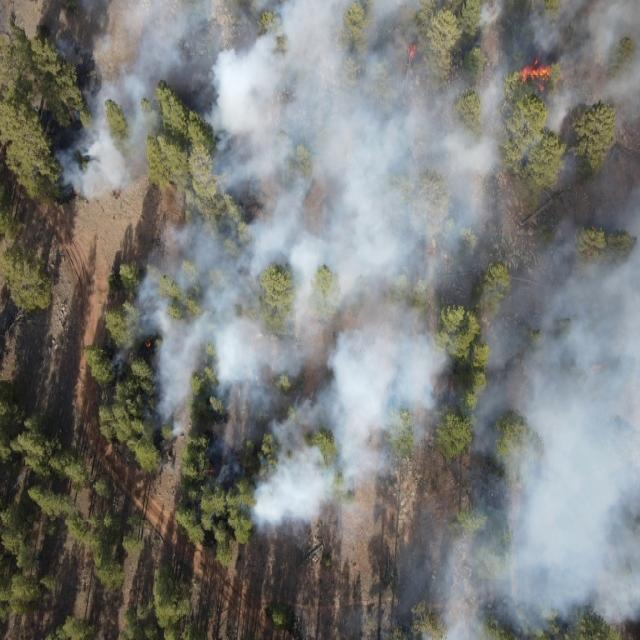fire: (516, 66, 557, 94), (529, 48, 545, 66), (588, 361, 608, 375), (406, 42, 419, 58), (204, 466, 216, 476), (72, 186, 82, 197), (144, 340, 154, 350), (112, 188, 122, 198)
smoke: (46, 0, 640, 201), (394, 202, 640, 640), (172, 201, 394, 550), (140, 230, 172, 471), (114, 305, 140, 379)
